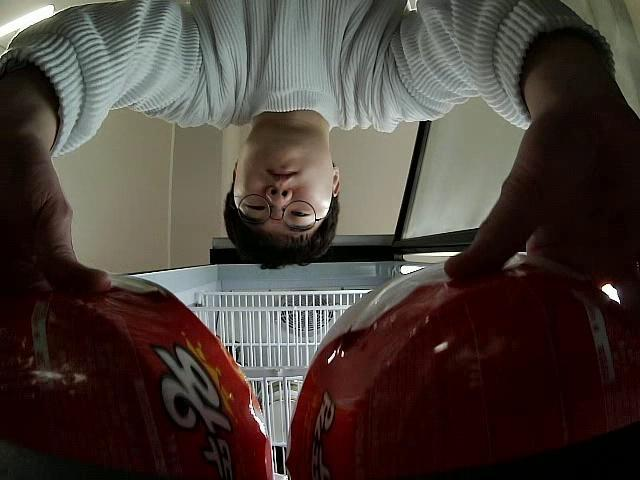10_wangTtukkeong: (284, 247, 640, 480), (5, 268, 264, 480)
